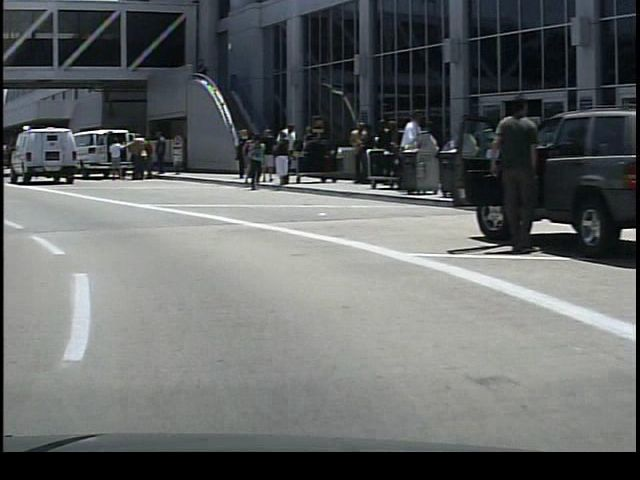person: (472, 82, 544, 261), (387, 108, 422, 201), (271, 123, 296, 186), (267, 136, 289, 187), (124, 132, 145, 184), (150, 131, 172, 178), (105, 137, 123, 185), (233, 126, 243, 181)
